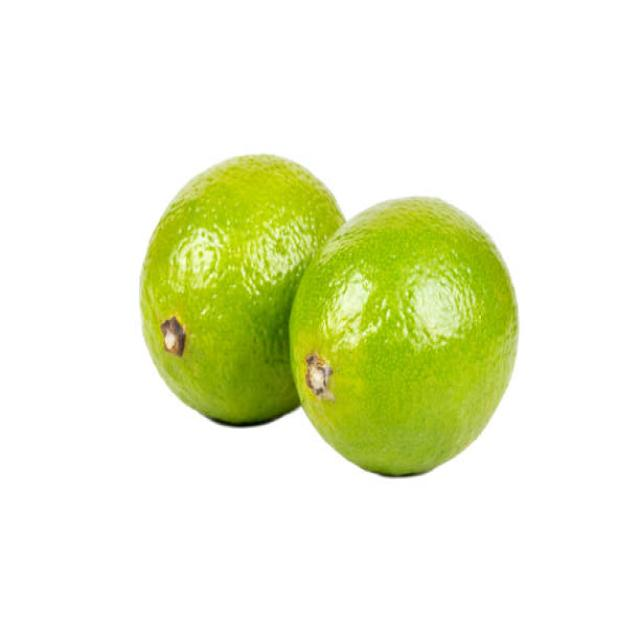Unripe: (288, 193, 522, 478), (137, 152, 347, 426)
